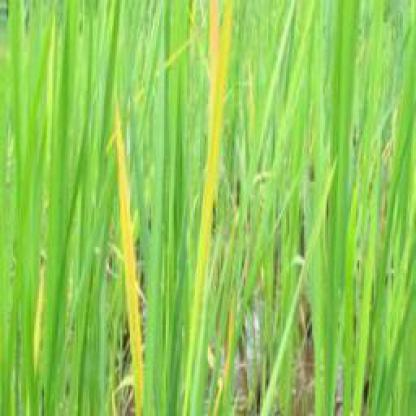Tungro: (193, 3, 234, 416), (107, 103, 153, 414)
